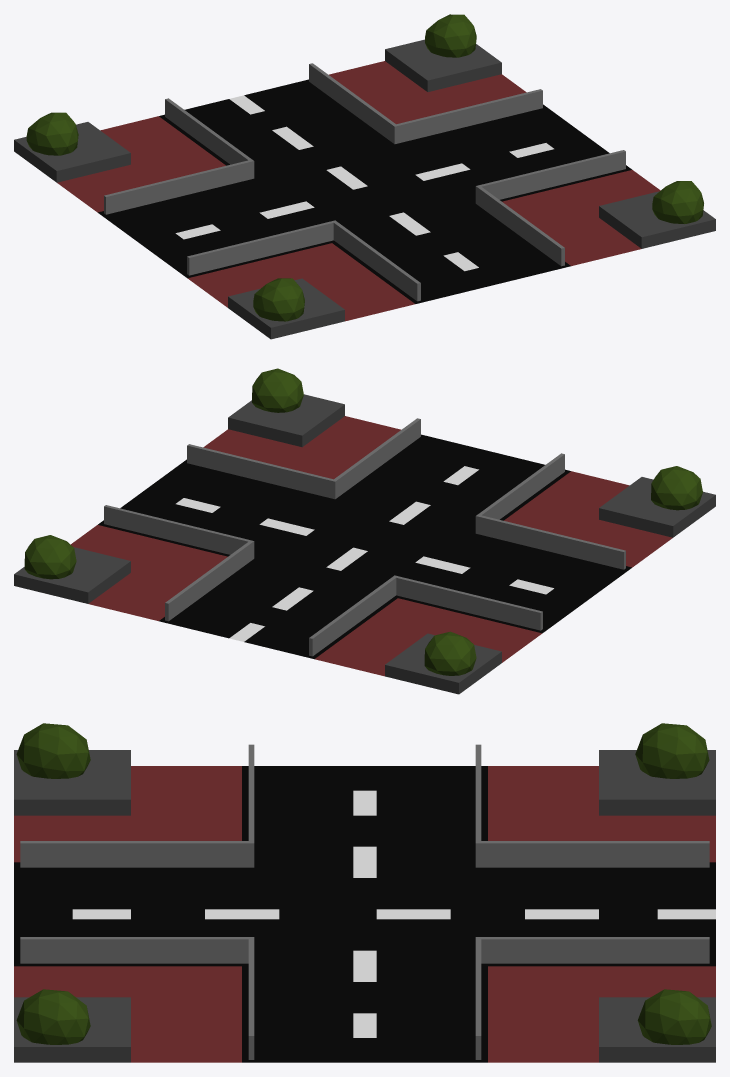
Rendered from RoadCrossLvl1.fbx.
3 renders of one model, top to bottom at view 1: azimuth 30°, elevation 25°; view 2: azimuth 150°, elevation 25°; view 3: azimuth 270°, elevation 25°, orthographic. The views are drawn at different scales.
Visible parts, largest first — view 1: RoadCrossLvl1.001; view 2: RoadCrossLvl1.001; view 3: RoadCrossLvl1.001.
Part boxes in pixels (x1=…): RoadCrossLvl1.001: x1=14, y1=14, x2=715, y2=339; RoadCrossLvl1.001: x1=14, y1=368, x2=715, y2=694; RoadCrossLvl1.001: x1=14, y1=723, x2=715, y2=1062.
Size of the model in its own units: 800 by 76.25 by 800.
